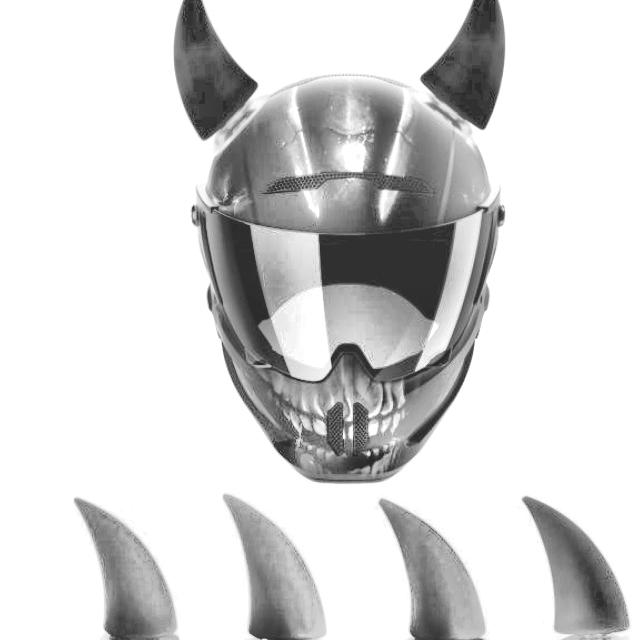Helmet: (170, 68, 514, 484)
